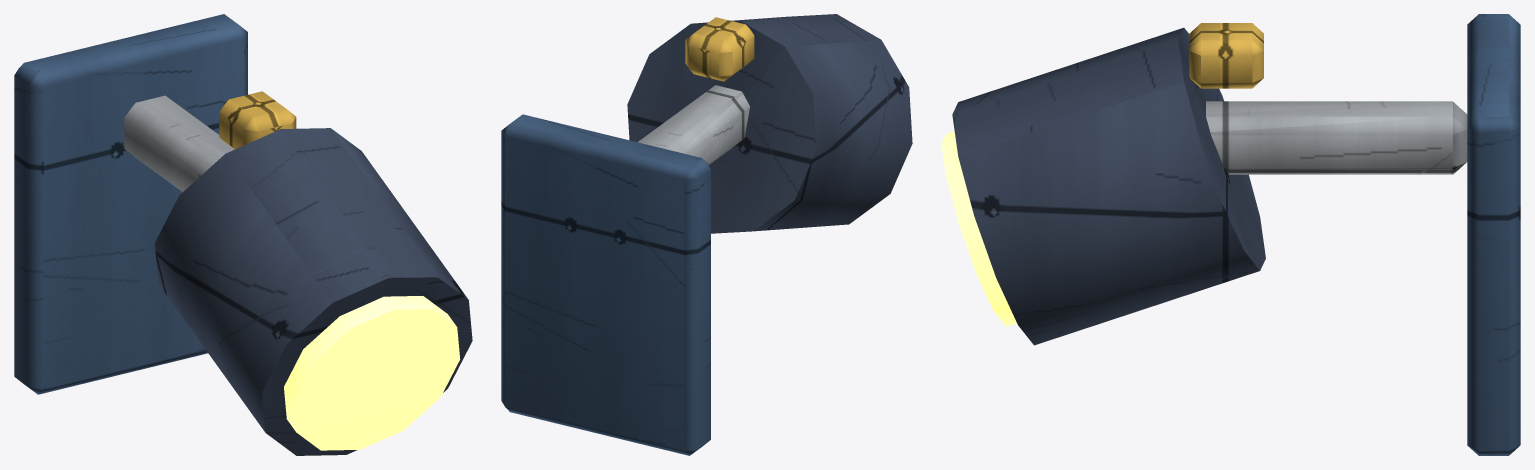
The model's file is floodlight_bracket.glb.
3 views of the same model, side by side, from view 1: azimuth 30°, elevation 25°; view 2: azimuth 150°, elevation 25°; view 3: azimuth 270°, elevation 25° (orthographic). The views are drawn at different scales.
Parts seen in each view (by area): view 1: floodlight_bracket_navy_frame, floodlight_bracket_graphite_navy, floodlight_bracket_emissive_amber, floodlight_bracket_titanium, floodlight_bracket_amber_accent; view 2: floodlight_bracket_navy_frame, floodlight_bracket_graphite_navy, floodlight_bracket_titanium, floodlight_bracket_amber_accent; view 3: floodlight_bracket_graphite_navy, floodlight_bracket_navy_frame, floodlight_bracket_titanium, floodlight_bracket_amber_accent, floodlight_bracket_emissive_amber.
Part boxes in pixels (left/top/right/bottom): floodlight_bracket_navy_frame: left=14, top=14, right=247, bottom=394; floodlight_bracket_graphite_navy: left=154, top=128, right=472, bottom=455; floodlight_bracket_emissive_amber: left=284, top=296, right=460, bottom=450; floodlight_bracket_titanium: left=124, top=95, right=234, bottom=191; floodlight_bracket_amber_accent: left=219, top=91, right=296, bottom=149; floodlight_bracket_navy_frame: left=501, top=114, right=710, bottom=455; floodlight_bracket_graphite_navy: left=627, top=14, right=912, bottom=233; floodlight_bracket_titanium: left=638, top=85, right=750, bottom=165; floodlight_bracket_amber_accent: left=685, top=17, right=754, bottom=81; floodlight_bracket_graphite_navy: left=952, top=27, right=1265, bottom=345; floodlight_bracket_navy_frame: left=1467, top=14, right=1520, bottom=455; floodlight_bracket_titanium: left=1206, top=101, right=1467, bottom=174; floodlight_bracket_amber_accent: left=1189, top=23, right=1263, bottom=88; floodlight_bracket_emissive_amber: left=941, top=131, right=1016, bottom=326.
Size of the model in its own units: 0.5 by 0.77 by 1.08.
Materials: 5 (4 with a texture image).
